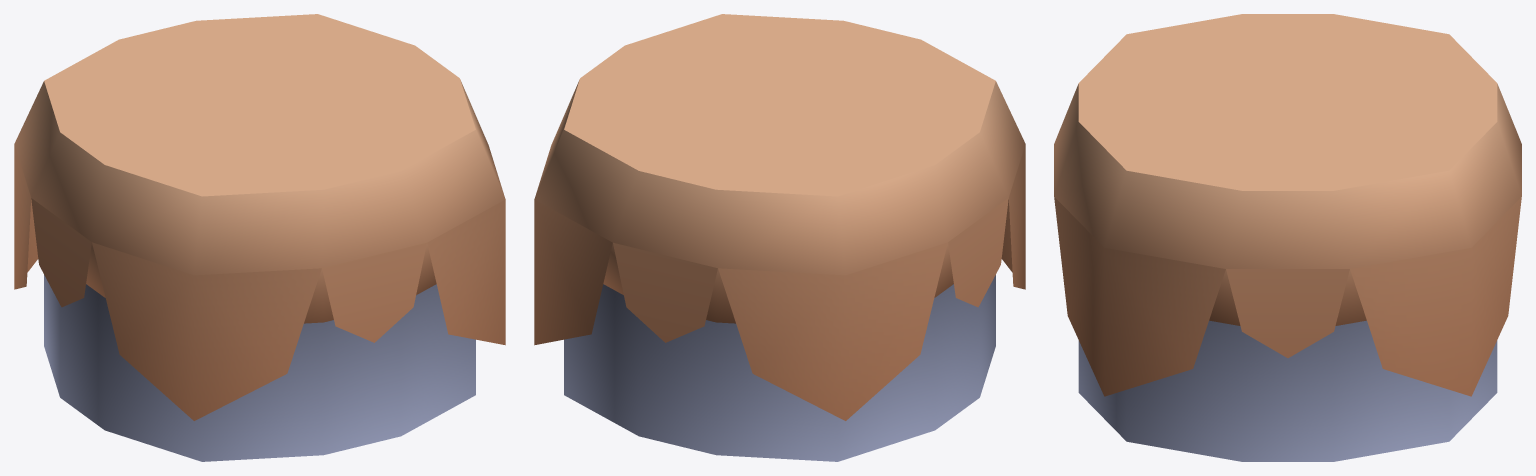
Rendered from block-grass-overhang-low-narrow.glb.
3 views of the same model, side by side, from view 1: azimuth 30°, elevation 25°; view 2: azimuth 150°, elevation 25°; view 3: azimuth 270°, elevation 25° (orthographic). The views are drawn at different scales.
Parts seen in each view (by area): view 1: block-grass-overhang-low-narrow; view 2: block-grass-overhang-low-narrow; view 3: block-grass-overhang-low-narrow.
Boxes of the visible parts, left/top/right/bottom form: block-grass-overhang-low-narrow: left=14, top=14, right=505, bottom=461; block-grass-overhang-low-narrow: left=534, top=14, right=1025, bottom=461; block-grass-overhang-low-narrow: left=1054, top=14, right=1521, bottom=461.
Bounding box in the file's own units: 0.7821 × 0.5 × 0.7821.
